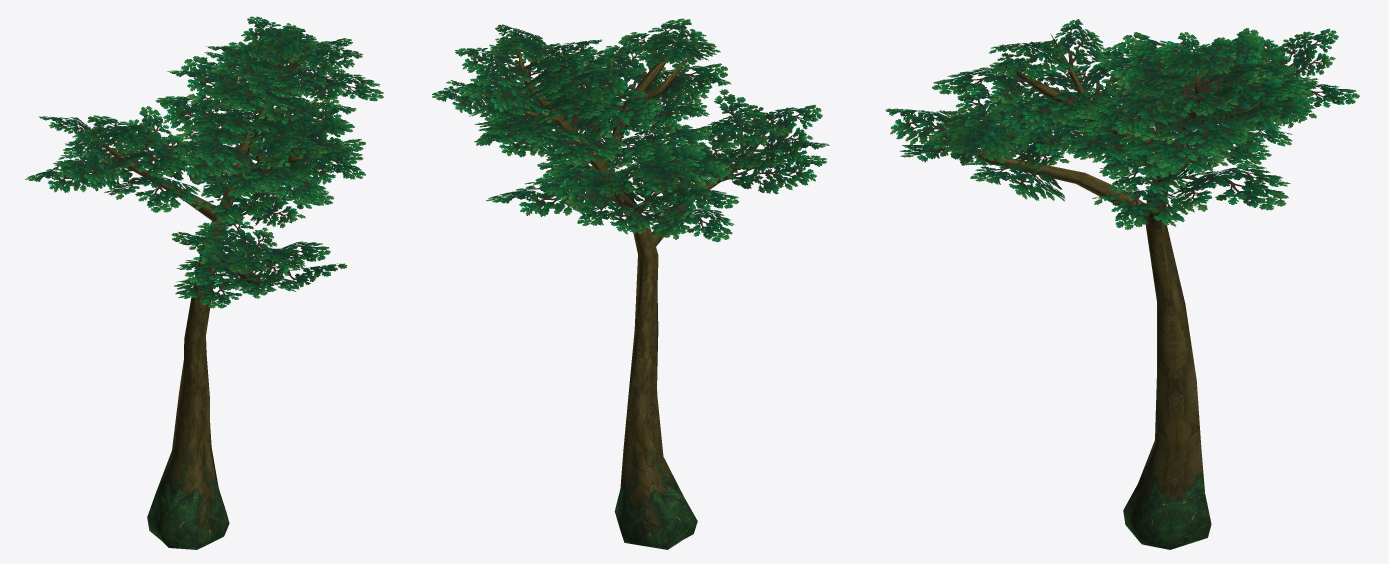
The model's file is fb_tys_tree_01.FBX.
3 renders of one model, left to right at view 1: azimuth 30°, elevation 25°; view 2: azimuth 150°, elevation 25°; view 3: azimuth 270°, elevation 25°, orthographic. The views are drawn at different scales.
Visible parts, largest first — view 1: fb_tys_tree_01_b, fb_tys_tree_01_a; view 2: fb_tys_tree_01_b, fb_tys_tree_01_a; view 3: fb_tys_tree_01_b, fb_tys_tree_01_a.
Part boxes in pixels (left/top/right/bottom): fb_tys_tree_01_b: left=25, top=16, right=383, bottom=308; fb_tys_tree_01_a: left=84, top=55, right=304, bottom=549; fb_tys_tree_01_b: left=432, top=18, right=829, bottom=241; fb_tys_tree_01_a: left=479, top=43, right=765, bottom=549; fb_tys_tree_01_b: left=885, top=19, right=1359, bottom=229; fb_tys_tree_01_a: left=945, top=33, right=1290, bottom=549.
Size of the model in its own units: 660 by 917 by 771.
